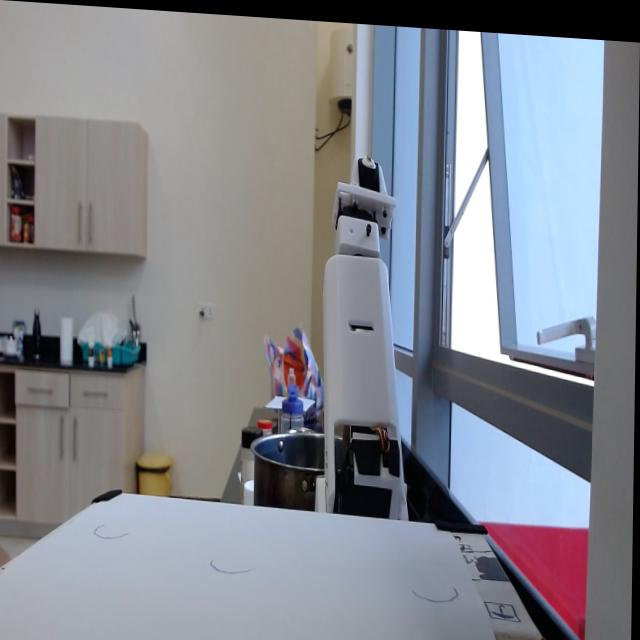cooking_pot: (253, 424, 348, 506)
